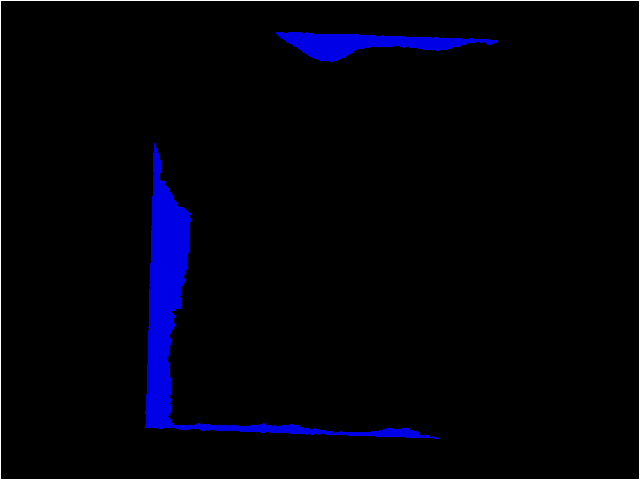defect: (145, 140, 440, 440), (274, 29, 499, 64)
